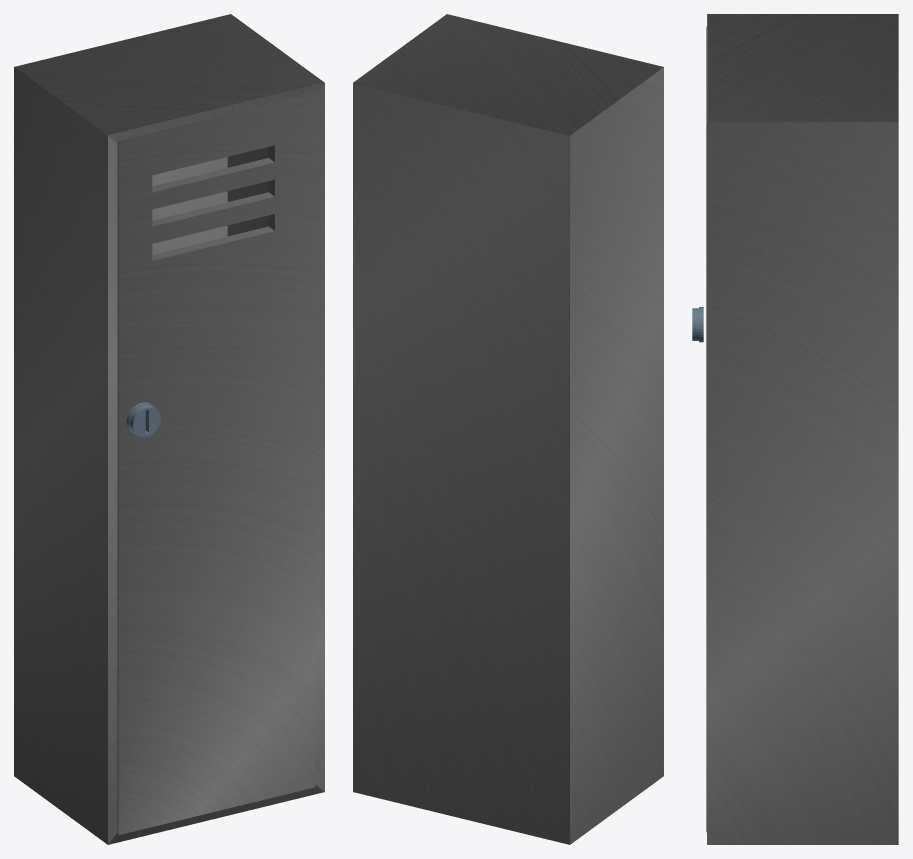
File: locker.fbx
The picture shows the model from 3 angles, left to right: view 1: azimuth 30°, elevation 25°; view 2: azimuth 150°, elevation 25°; view 3: azimuth 270°, elevation 25°; orthographic projection.
Visible parts, largest first — view 1: Cube.061, Cube.060, Circle; view 2: Cube.060; view 3: Cube.060, Cube.061, Circle.
Part boxes in pixels (x1,y1,x2,y2): Cube.061: (117, 92, 315, 835); Cube.060: (14, 14, 324, 844); Circle: (126, 402, 160, 437); Cube.060: (353, 14, 663, 844); Cube.060: (707, 14, 898, 844); Cube.061: (706, 26, 706, 832); Circle: (692, 307, 703, 342).
Size of the model in its own units: 0.8 by 2.5 by 0.6461.
